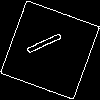I: (25, 25, 73, 57)
